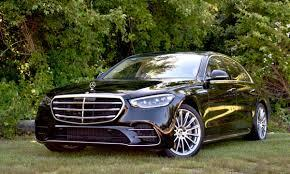mercedes: (88, 82, 97, 91)
